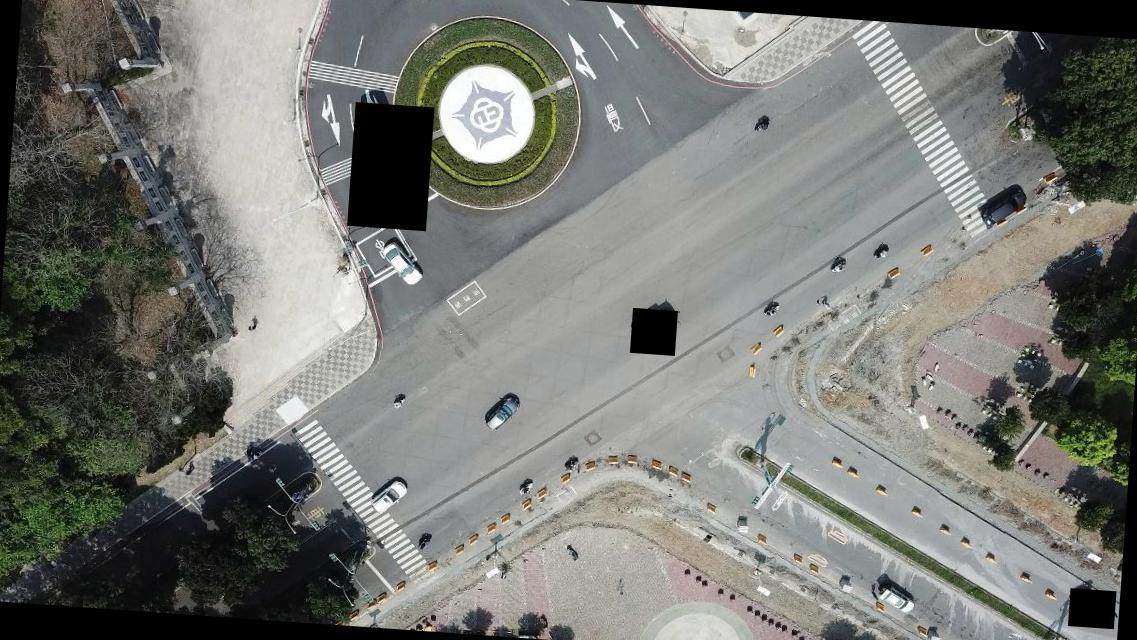vehicle: (980, 186, 1028, 232), (379, 241, 425, 286), (368, 476, 408, 516), (482, 392, 520, 432), (878, 582, 914, 614)
